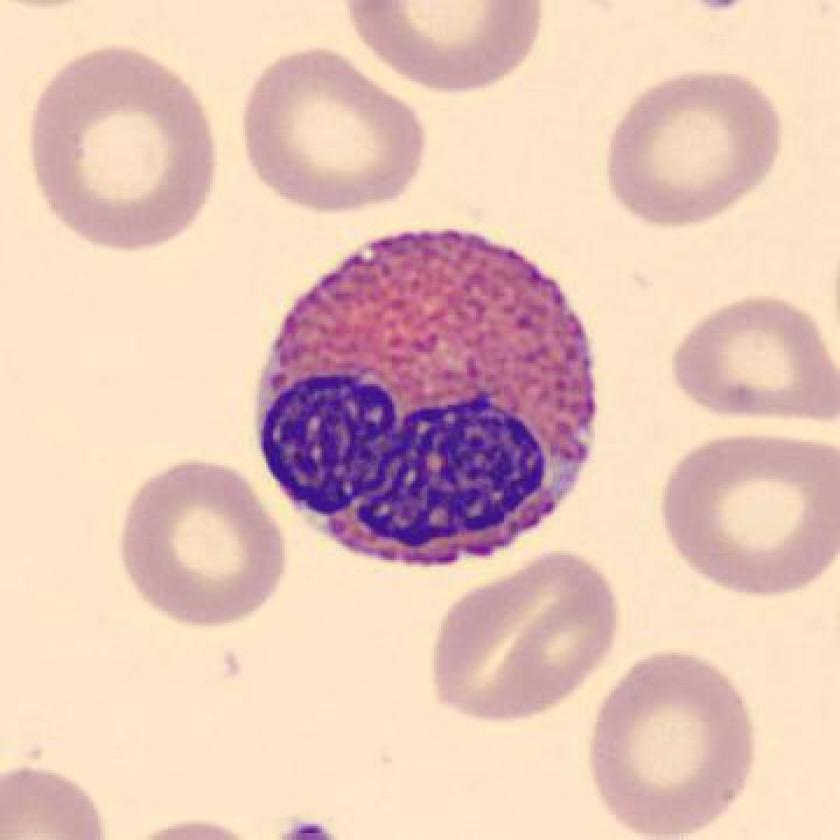eosinophil: (246, 216, 612, 580)
